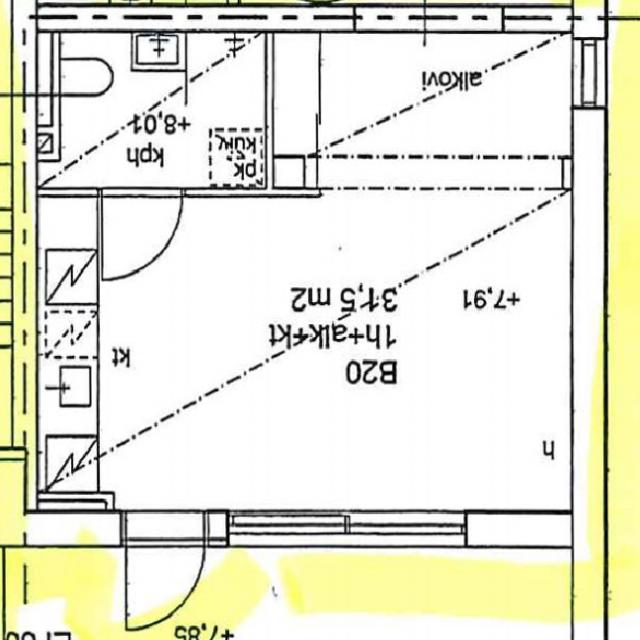door: (125, 509, 203, 632), (100, 186, 180, 283)
